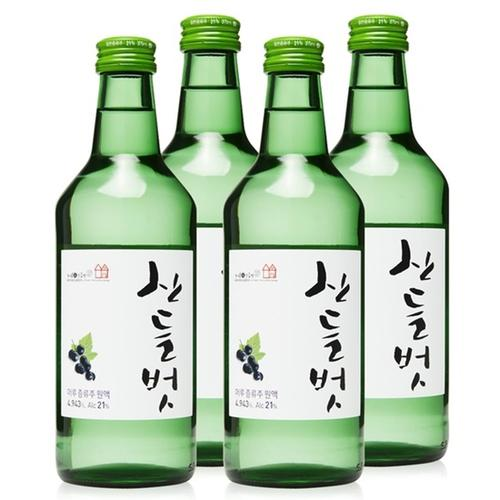soju: (54, 13, 459, 491)
